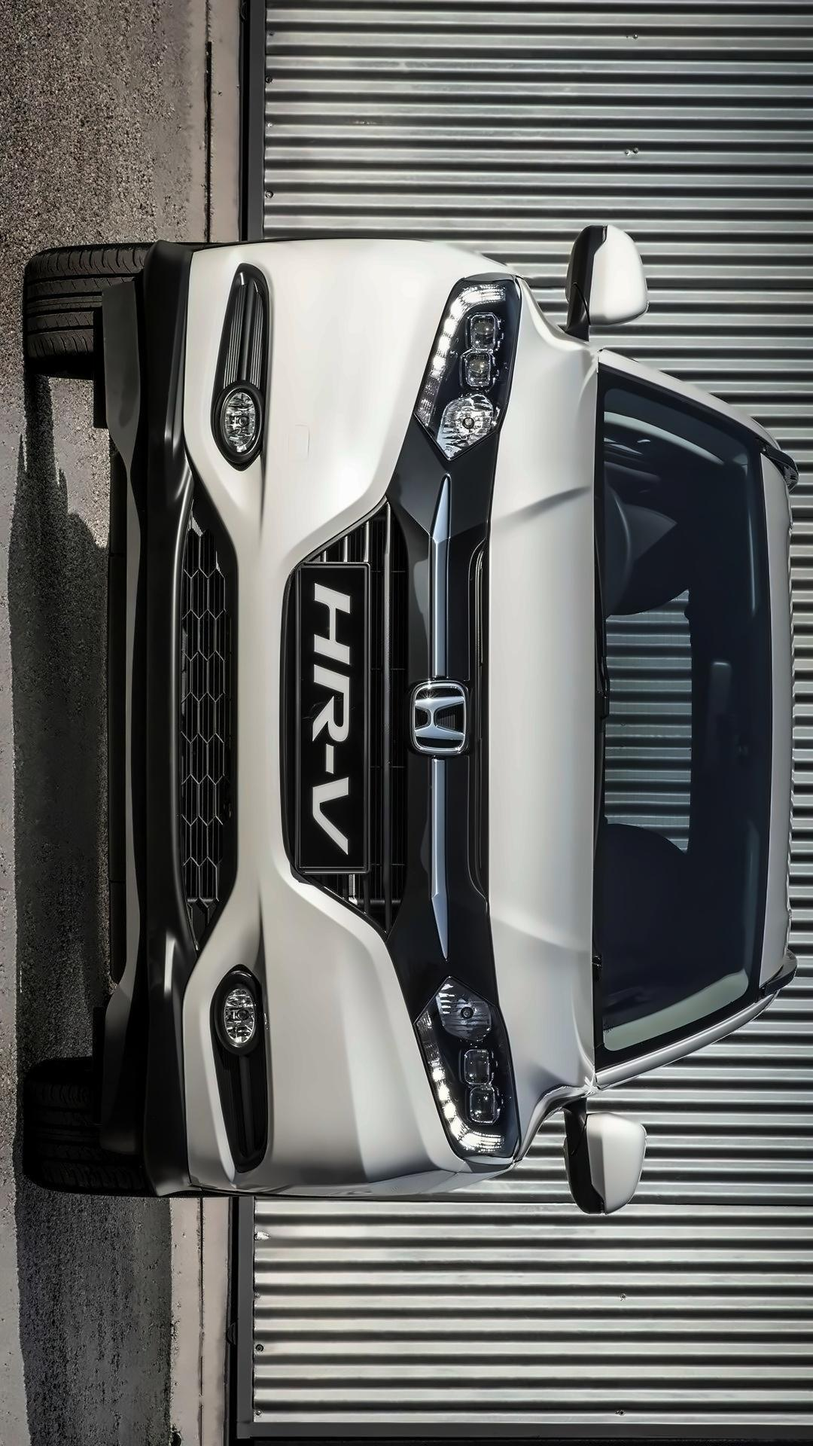Car hood: (485, 279, 624, 1157)
Front bumper: (93, 229, 421, 1202)
Headlight - -L-: (404, 964, 538, 1191)
Headlight - -R-: (414, 254, 531, 464)
Side mirror - -L-: (550, 1082, 649, 1227)
Side mirror - -R-: (562, 211, 672, 345)
